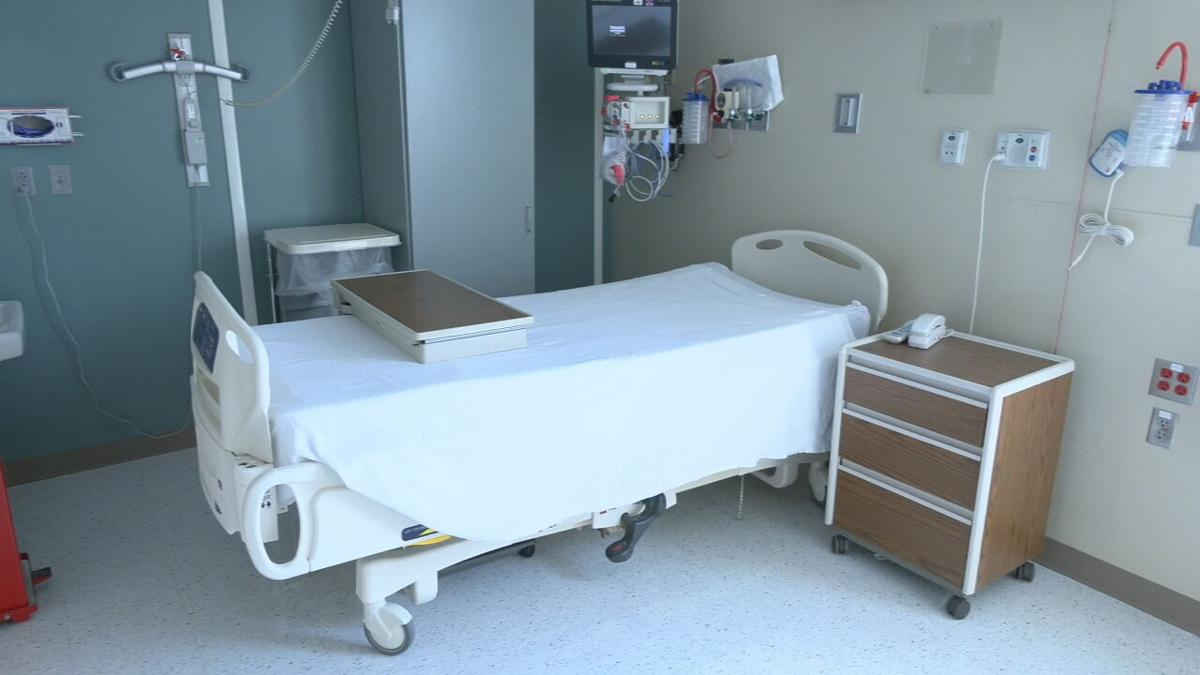bedside_monitor: (586, 1, 677, 72)
bedside_table: (823, 300, 1074, 604)
cabinet: (343, 1, 550, 288)
dispenser: (1, 101, 80, 142)
foot_board: (189, 270, 275, 463)
handle: (524, 205, 532, 233)
operating_bed: (186, 228, 888, 658)
overbed_table: (329, 267, 536, 366)
telephone: (908, 313, 946, 350)
waste_bin: (262, 223, 402, 322)
